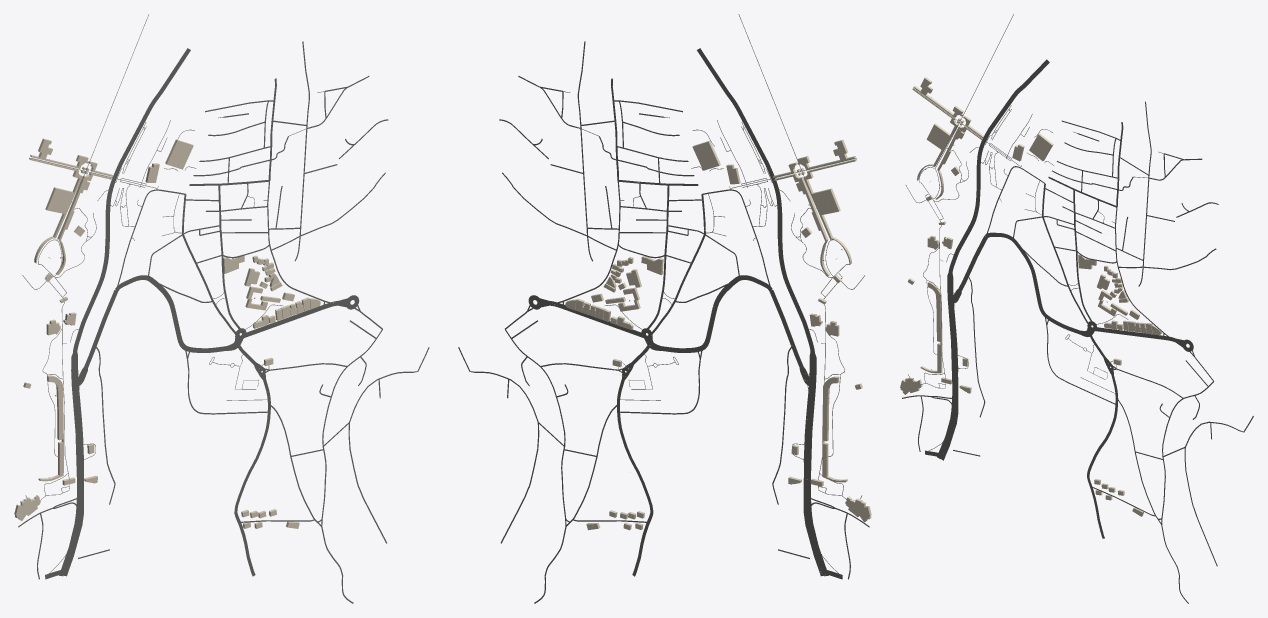
File: jerash_3589_3227.glb
3 views of the same model, side by side, from view 1: azimuth 30°, elevation 25°; view 2: azimuth 150°, elevation 25°; view 3: azimuth 330°, elevation 25° (orthographic). The views are drawn at different scales.
Parts seen in each view (by area): view 1: Road Wasfi At-Tal Street.001, Road Wasfi At-Tal Street, Road Wasfi At-Tal Street.002, Road Ahmad Shawqi Street, Road Awni Mustafa Al-Hawamdeh Street; view 2: Road Wasfi At-Tal Street.001, Road Wasfi At-Tal Street.002, Road Ahmad Shawqi Street, Road Wasfi At-Tal Street, Road Awni Mustafa Al-Hawamdeh Street; view 3: Road Wasfi At-Tal Street.001, Road Wasfi At-Tal Street.002, Road Wasfi At-Tal Street, Road Ahmad Shawqi Street, Road Awni Mustafa Al-Hawamdeh Street.
Boxes of the visible parts, x1,y1,x2,y2 form: Road Wasfi At-Tal Street.001: (73, 48, 190, 352); Road Wasfi At-Tal Street: (69, 352, 81, 546); Road Wasfi At-Tal Street.002: (65, 352, 83, 568); Road Ahmad Shawqi Street: (115, 275, 226, 352); Road Awni Mustafa Al-Hawamdeh Street: (234, 379, 270, 576); Road Wasfi At-Tal Street.001: (697, 48, 814, 352); Road Wasfi At-Tal Street.002: (803, 352, 822, 568); Road Ahmad Shawqi Street: (661, 275, 772, 352); Road Wasfi At-Tal Street: (806, 352, 818, 546); Road Awni Mustafa Al-Hawamdeh Street: (617, 378, 653, 576); Road Wasfi At-Tal Street.001: (948, 59, 1049, 273); Road Wasfi At-Tal Street.002: (942, 273, 958, 454); Road Wasfi At-Tal Street: (945, 272, 955, 437); Road Ahmad Shawqi Street: (985, 232, 1079, 334); Road Awni Mustafa Al-Hawamdeh Street: (1087, 374, 1118, 538).
Size of the model in its own units: 1097 by 1621 by 9.09.
